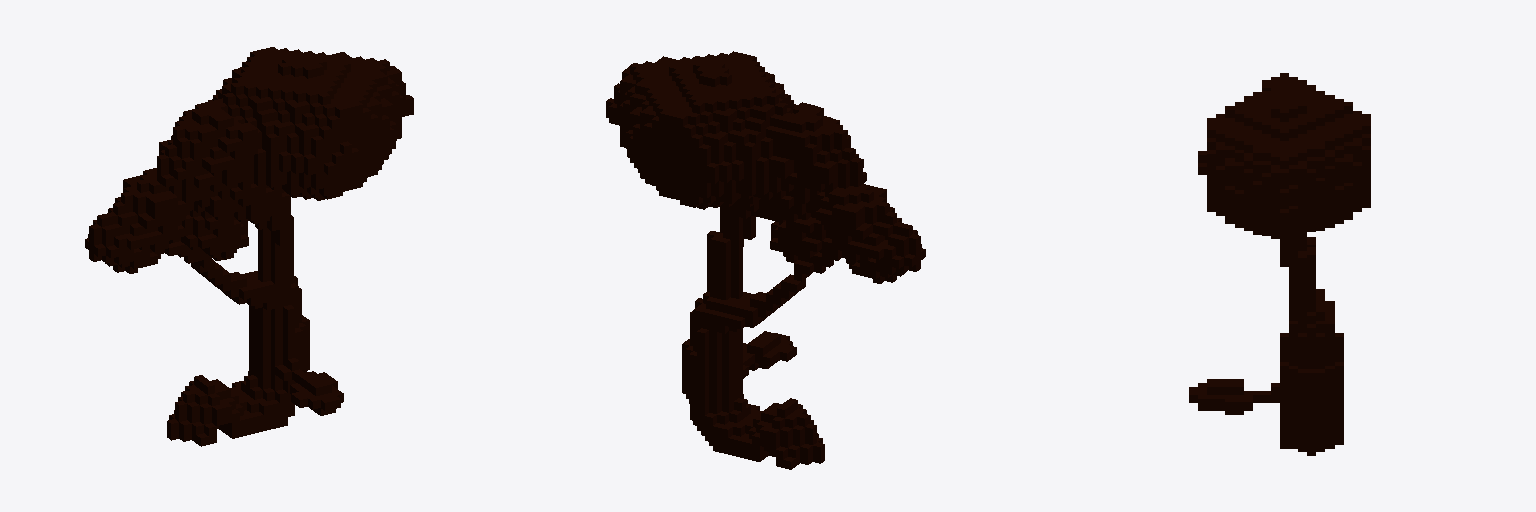
Rendered from tree.obj.
The picture shows the model from 3 angles: view 1: azimuth 30°, elevation 25°; view 2: azimuth 150°, elevation 25°; view 3: azimuth 270°, elevation 25°; orthographic projection.
Parts seen in each view (by area): view 1: Tree1; view 2: Tree1; view 3: Tree1.
Boxes of the visible parts, box(x1,y1,x2,y2) form: Tree1: box(85, 47, 413, 446); Tree1: box(606, 51, 925, 469); Tree1: box(1189, 73, 1370, 455).
Size of the model in its own units: 40 by 43 by 20.